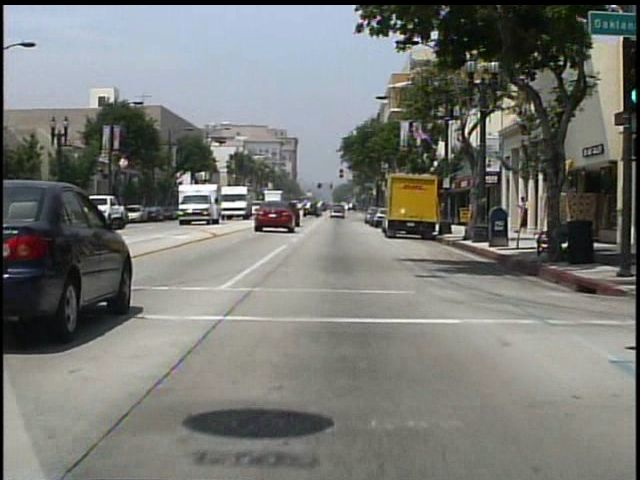person: (513, 195, 528, 236)
